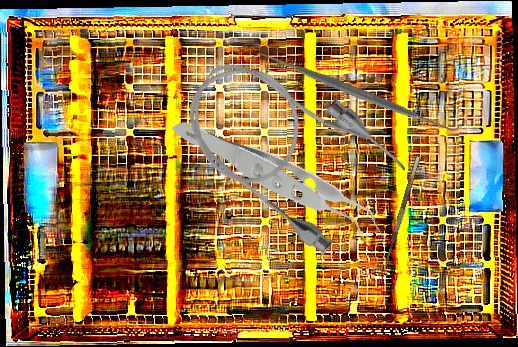Cannula: (162, 28, 415, 265)
Hook Surgical: (378, 156, 428, 282)
Spatula Surgical: (244, 38, 465, 146)
Tissue Forceps: (169, 60, 391, 308)
